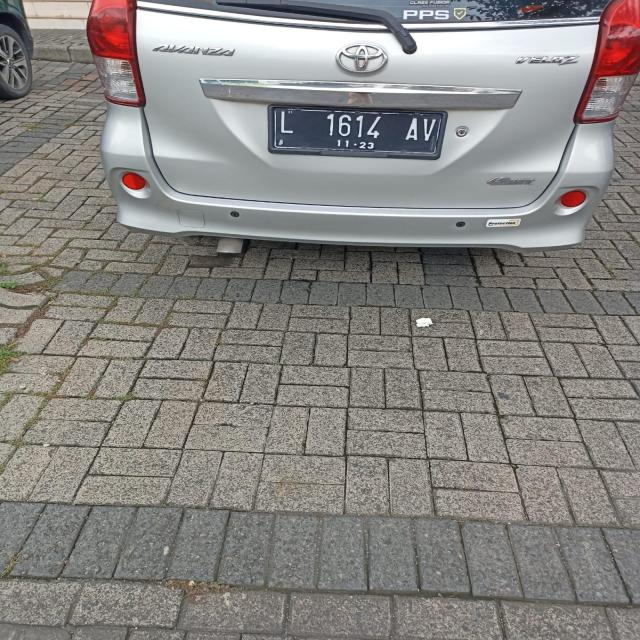license-plate: (268, 107, 446, 160)
